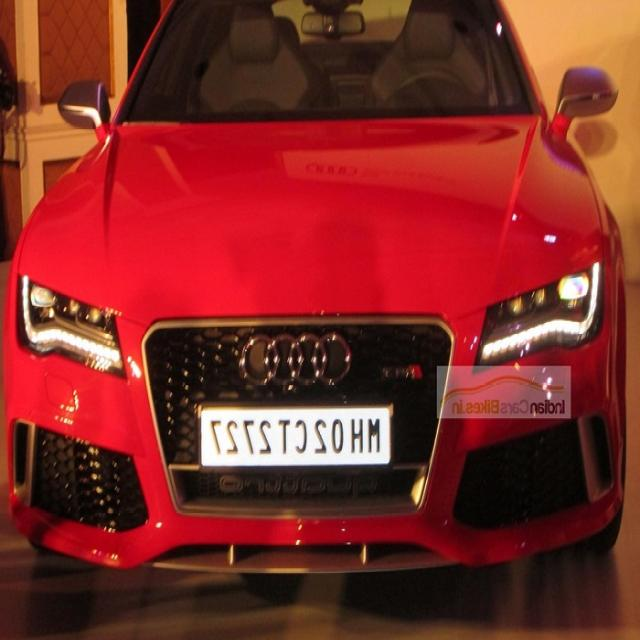license_plate: (199, 404, 393, 471)
